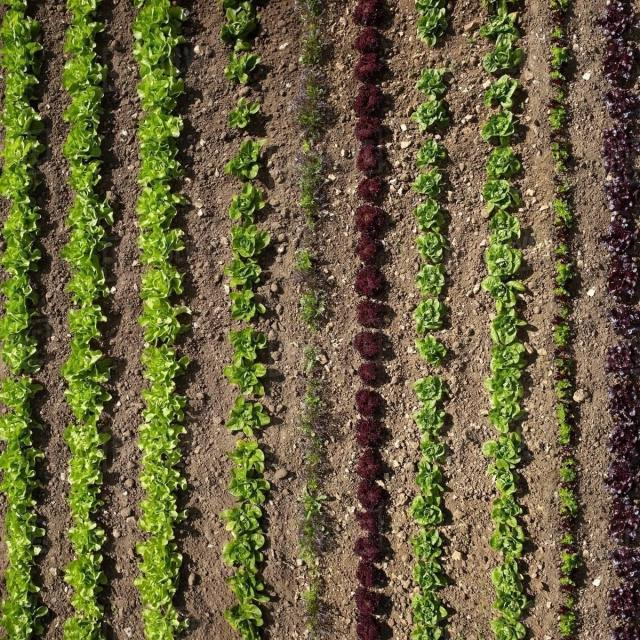row: (99, 0, 151, 638), (186, 1, 238, 638), (448, 2, 500, 638), (258, 0, 307, 640), (578, 2, 618, 640), (526, 1, 563, 640), (387, 1, 422, 640), (35, 0, 69, 640), (327, 0, 360, 640)
